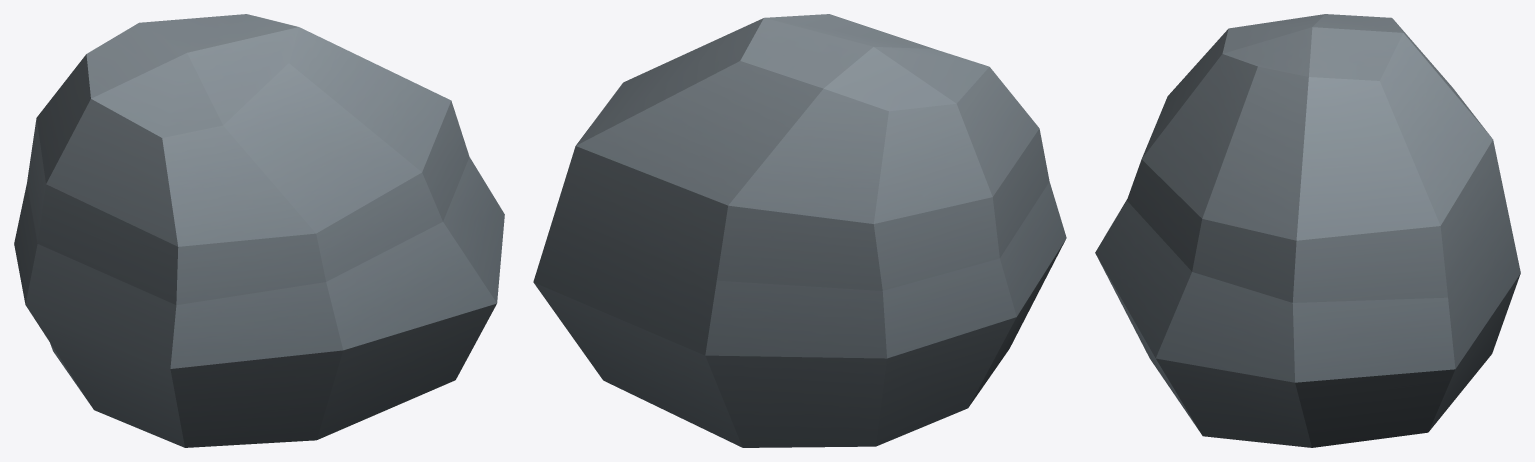
Rendered from skała5.fbx.
The picture shows the model from 3 angles, left to right: view 1: azimuth 30°, elevation 25°; view 2: azimuth 150°, elevation 25°; view 3: azimuth 270°, elevation 25°; orthographic projection. The views are drawn at different scales.
Parts seen in each view (by area): view 1: skała5; view 2: skała5; view 3: skała5.
Part boxes in pixels (left/top/right/bottom): skała5: left=14, top=14, right=504, bottom=447; skała5: left=533, top=14, right=1066, bottom=447; skała5: left=1095, top=14, right=1520, bottom=447.
Size of the model in its own units: 269 by 189 by 231.
